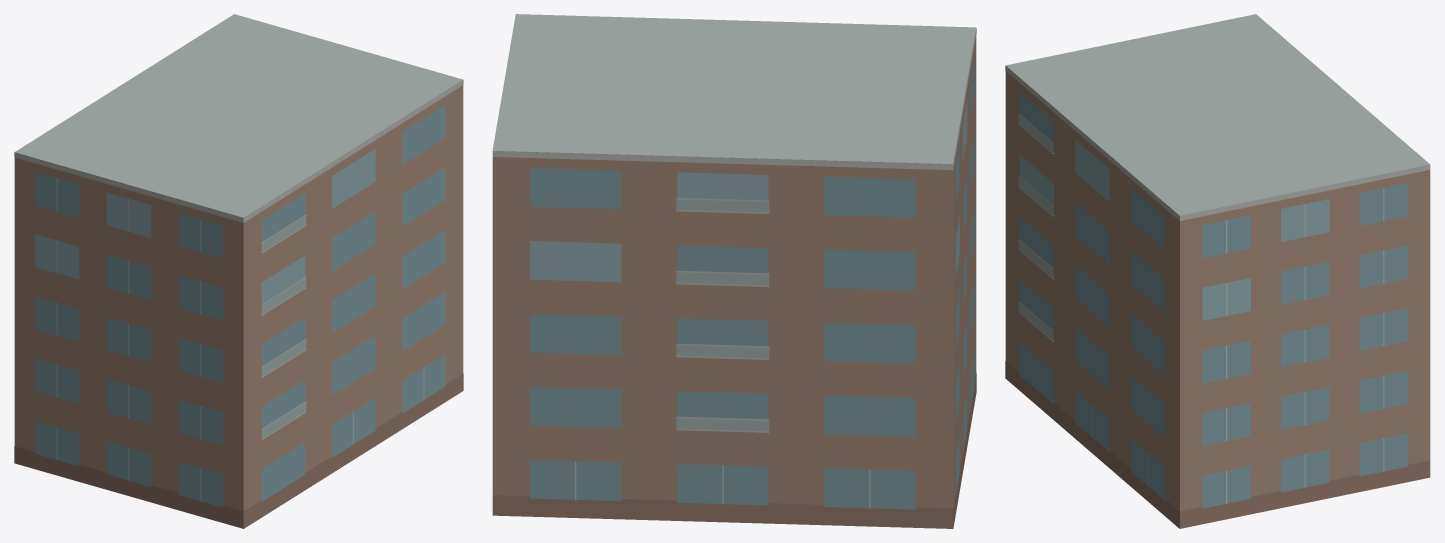
File: survey-upis-32746464.glb
3 renders of one model, left to right at view 1: azimuth 30°, elevation 25°; view 2: azimuth 150°, elevation 25°; view 3: azimuth 270°, elevation 25°, orthographic. The views are drawn at different scales.
Visible parts, largest first — view 1: survey-upis-32746464.tmp; view 2: survey-upis-32746464.tmp; view 3: survey-upis-32746464.tmp.
Boxes of the visible parts, x1,y1,x2,y2 form: survey-upis-32746464.tmp: (14,14,463,528); survey-upis-32746464.tmp: (492,14,976,528); survey-upis-32746464.tmp: (1005,14,1430,528).
Bounding box in the file's own units: 20.27 × 14.65 × 18.03.
